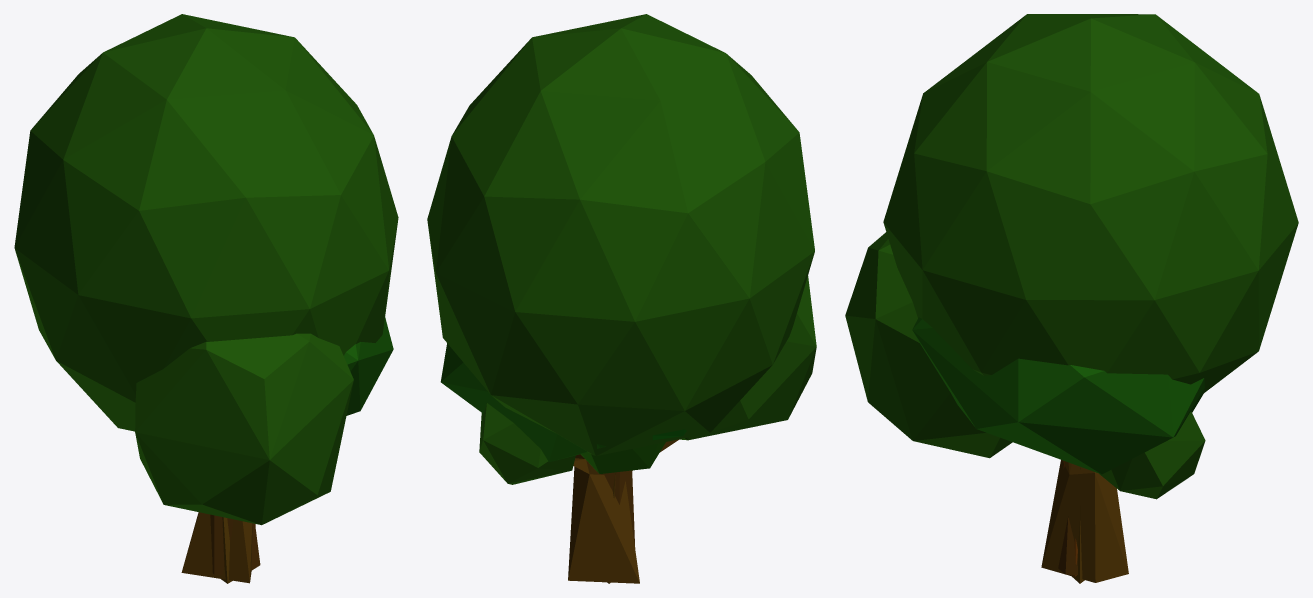
The model's file is trees6LowPoly2.glb.
3 renders of one model, left to right at view 1: azimuth 30°, elevation 25°; view 2: azimuth 150°, elevation 25°; view 3: azimuth 270°, elevation 25°, orthographic.
Parts seen in each view (by area): view 1: tree3, tree4, tree6; view 2: tree3, tree4, tree5, tree6; view 3: tree3, tree4, tree6.
Part boxes in pixels (x1,y1,x2,y2): tree3: (14, 14, 398, 583); tree4: (221, 317, 393, 583); tree6: (210, 514, 260, 574); tree3: (427, 14, 816, 583); tree4: (440, 343, 615, 583); tree5: (580, 442, 665, 473); tree6: (604, 471, 635, 547); tree3: (845, 14, 1298, 582); tree4: (912, 317, 1204, 583); tree6: (1058, 516, 1082, 574).
Bounding box in the file's own units: 2.15 × 3.5 × 2.65.
